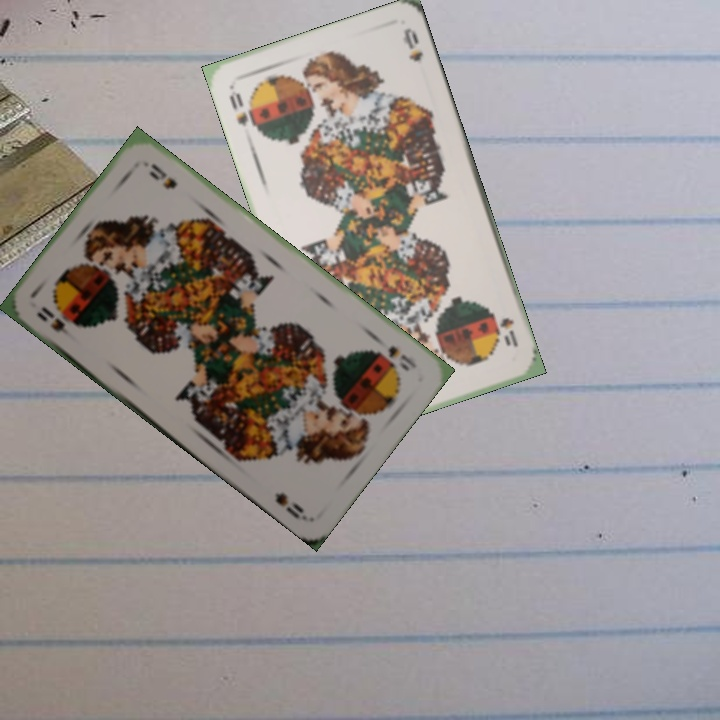SO: (32, 302, 80, 344), (373, 333, 419, 374), (488, 308, 521, 350), (225, 89, 251, 129)
